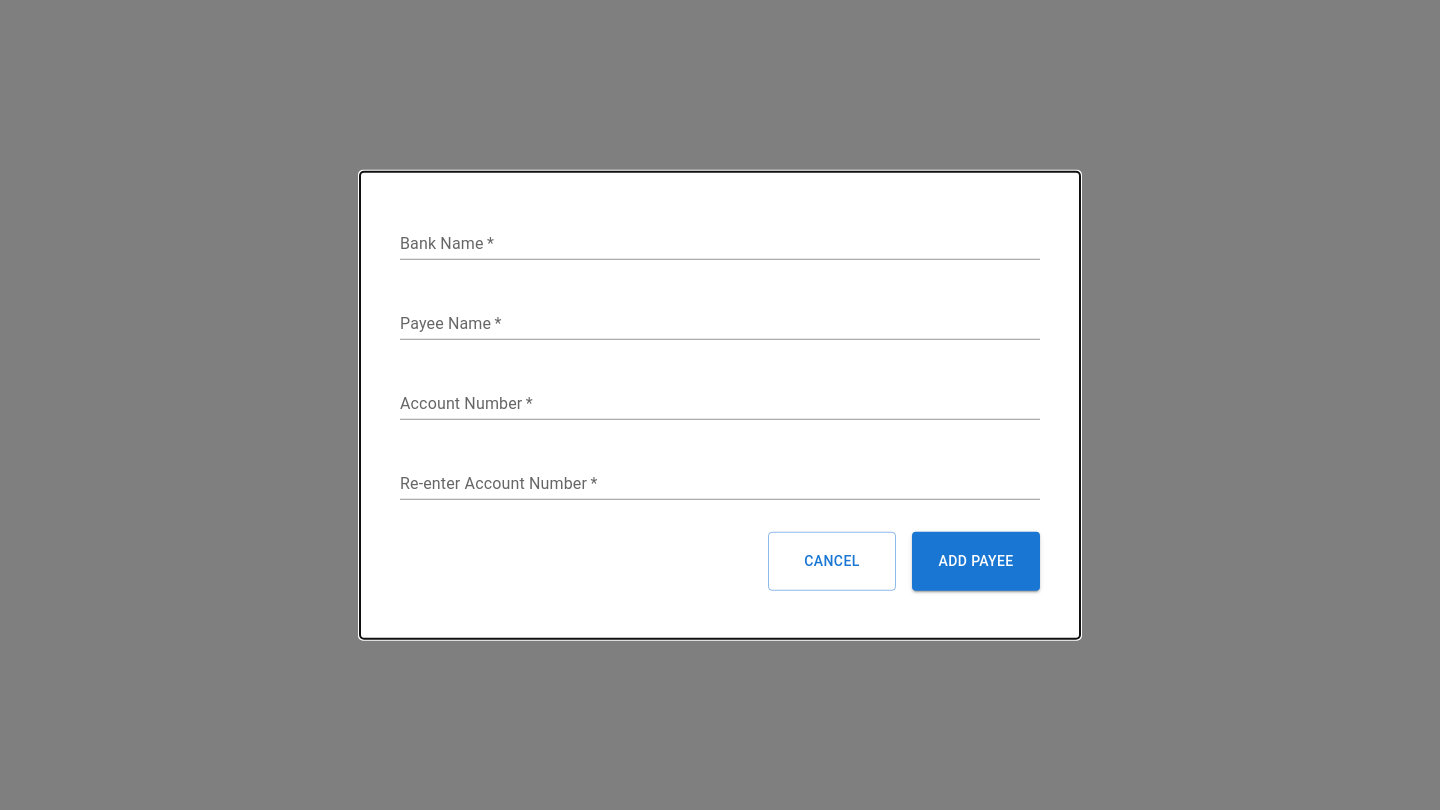
Test: TS:1 - AddPayeeModal Component › TC:03 - should show error message if account number is not matching
Type "test bank" into the field labelled "Bank Name *" at (720, 244), box [400,228,1040,260]
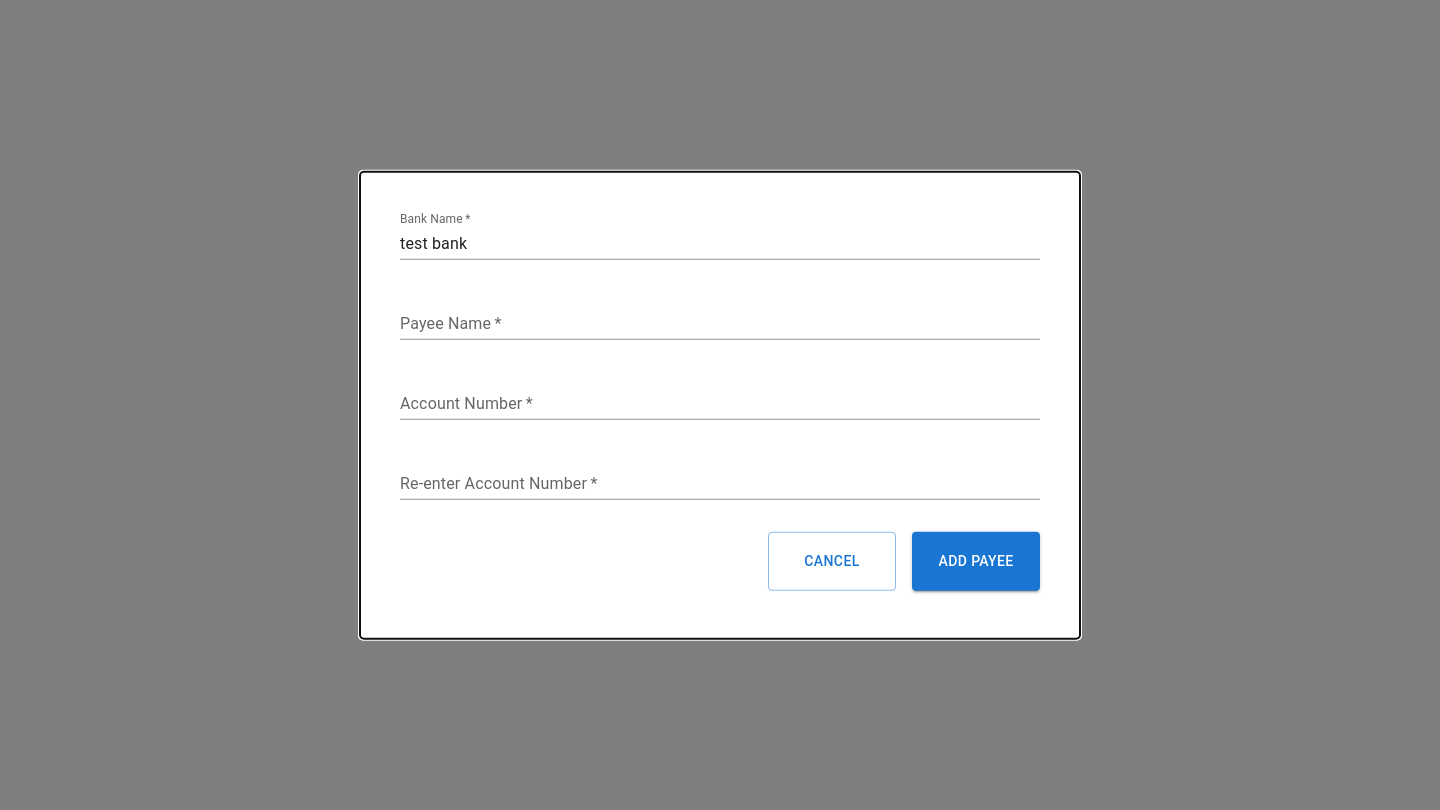
Type "new payee" into the field labelled "Payee Name *" at (720, 324), box [400,308,1040,340]
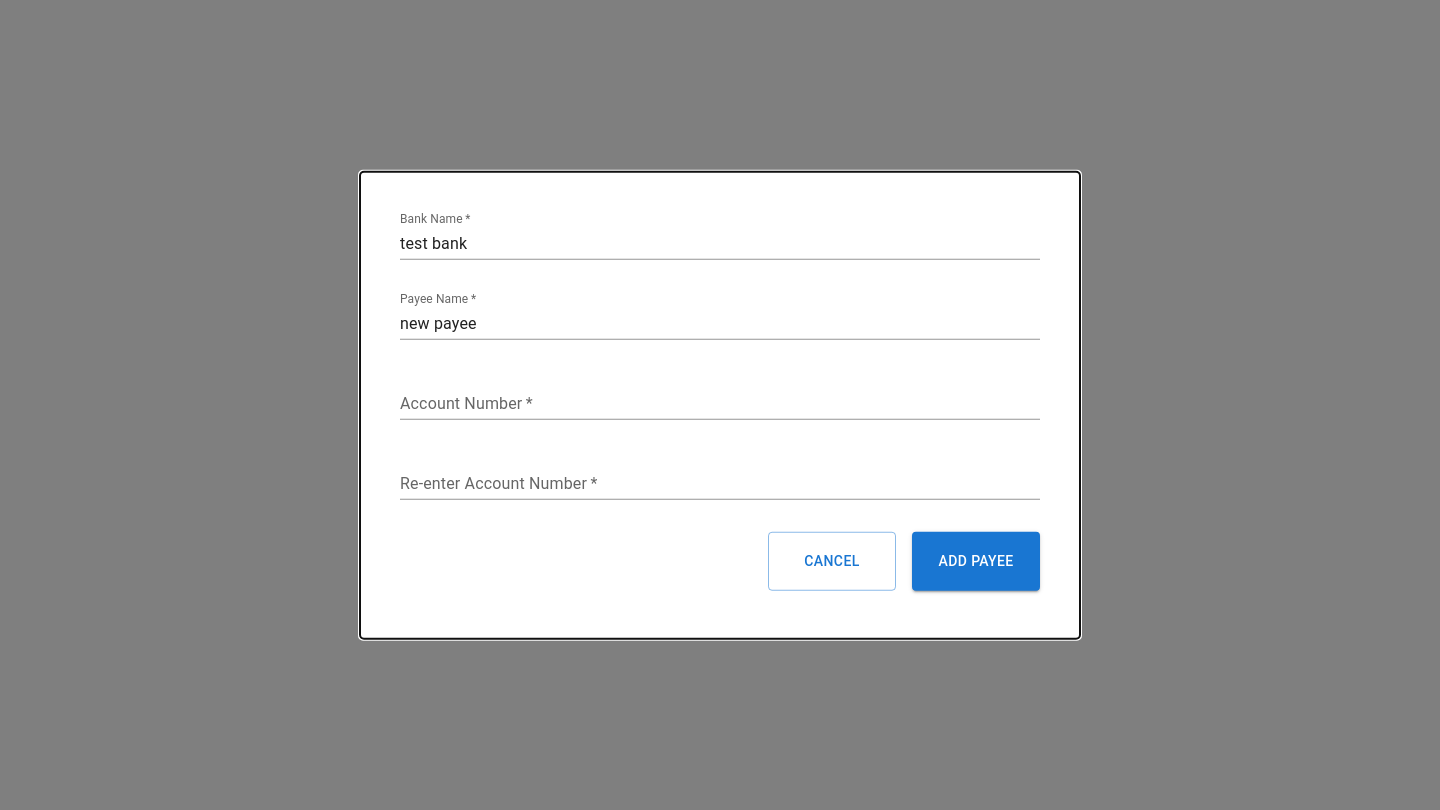
Type "12345" into the password field labelled "Account Number *" at (720, 404), box [400,388,1040,420]
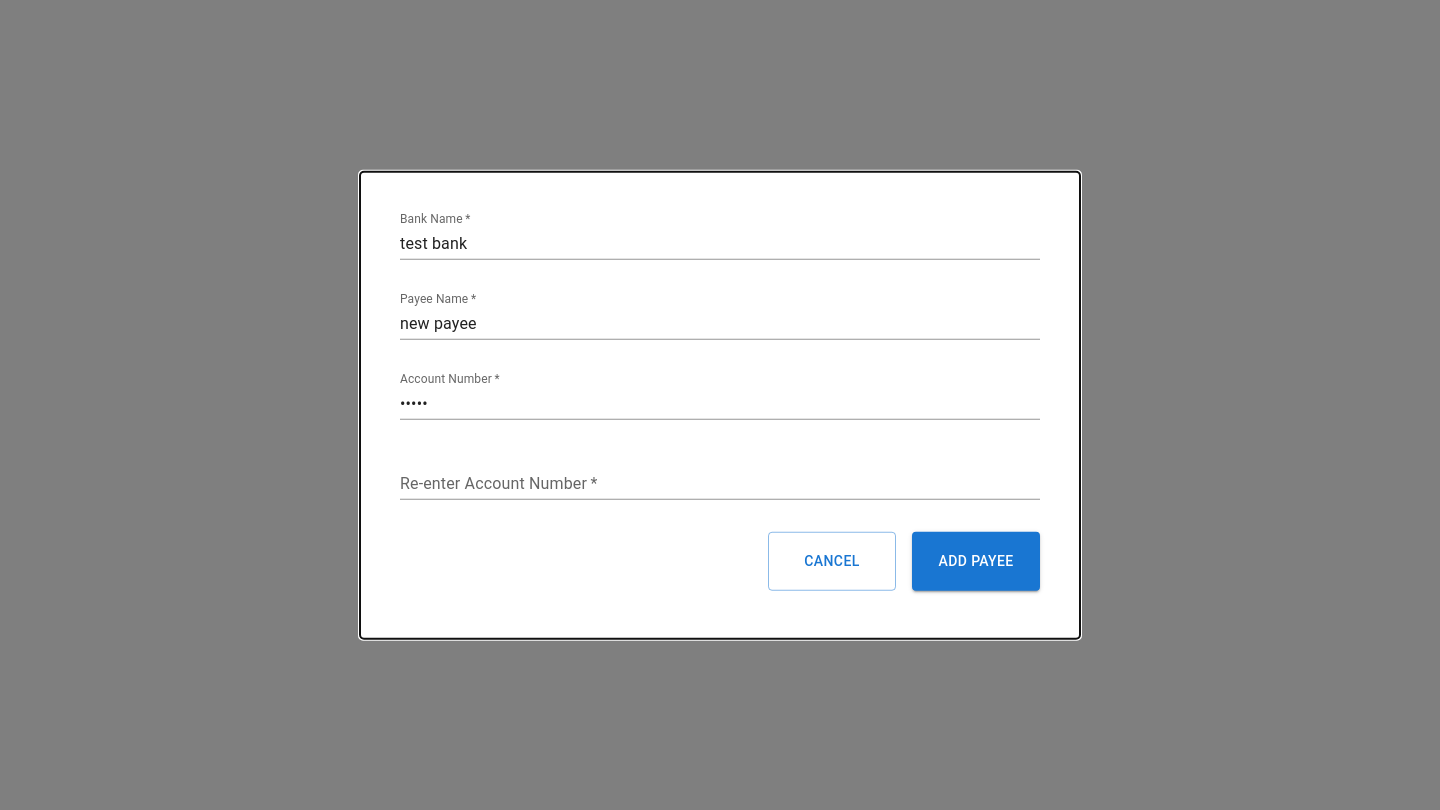
Type "123" into the field labelled "Re-enter Account Number *" at (720, 484), box [400,468,1040,500]
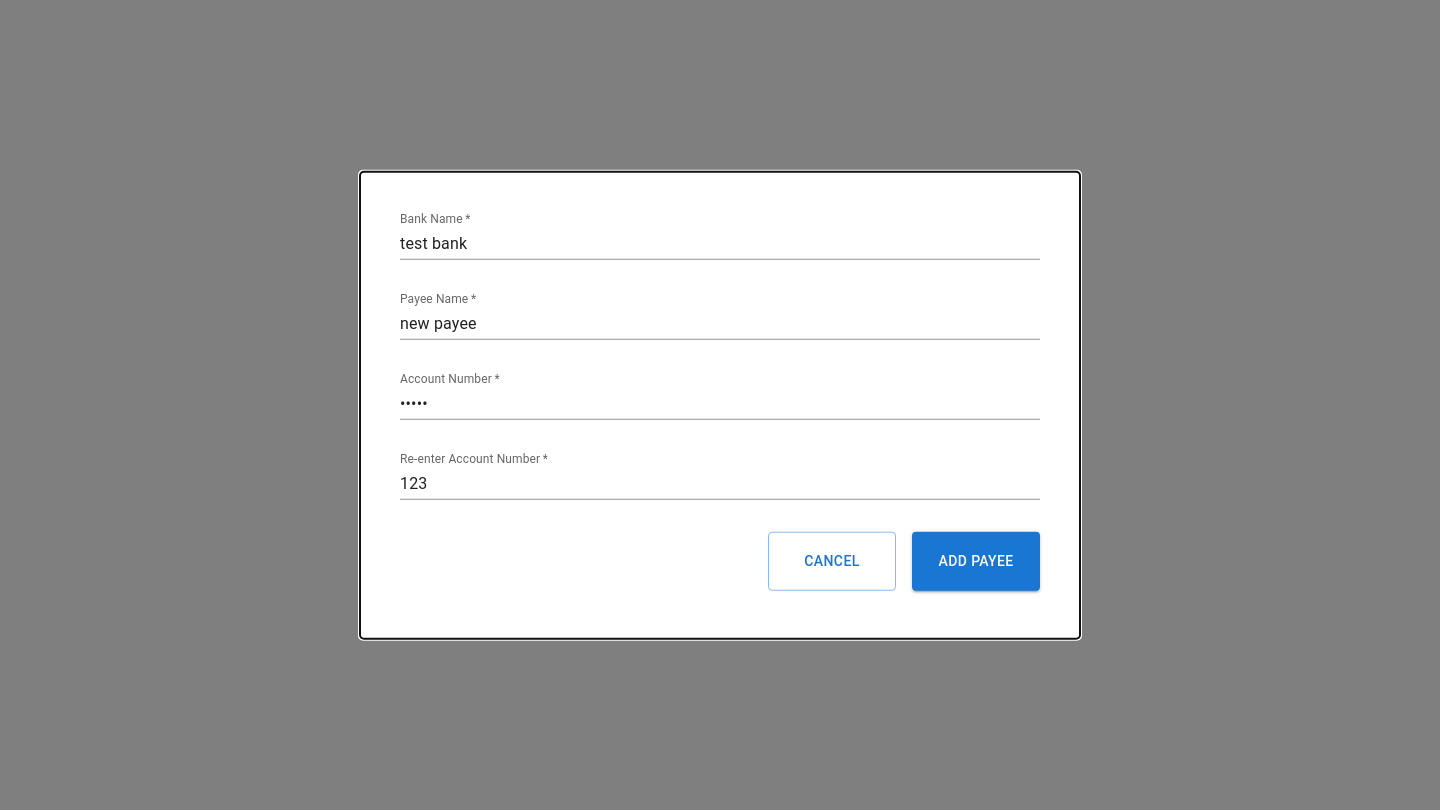
Click the button "Add Payee" at (976, 561), box [912,532,1040,590]
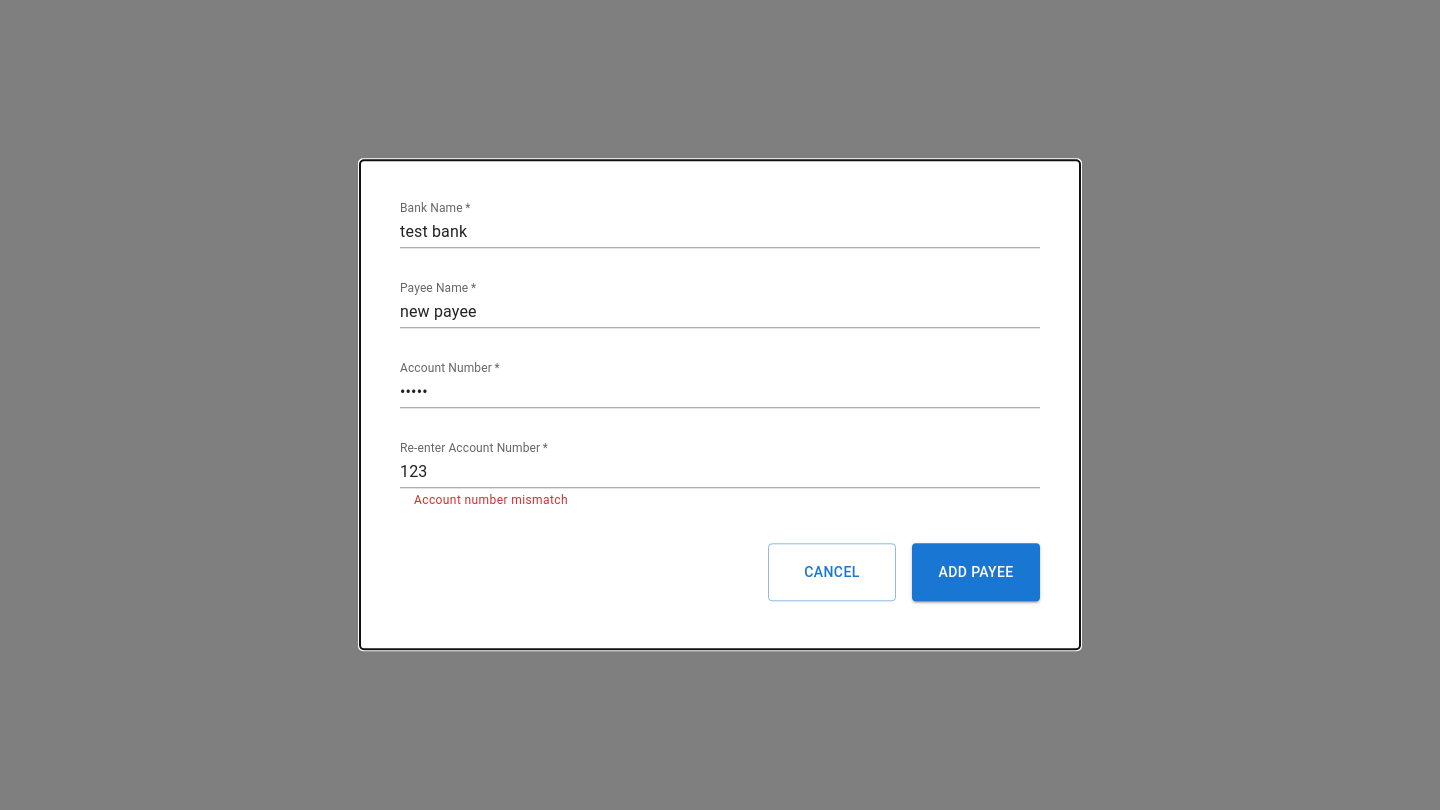
Result: the text "Account number mismatch" is shown at [414,493,568,507]
